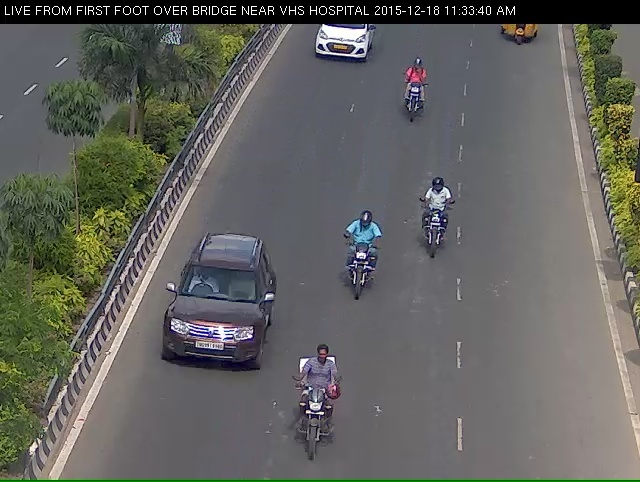Auto: (497, 26, 544, 49)
Car: (151, 263, 267, 415), (303, 23, 371, 73)
Person: (278, 376, 342, 481), (412, 180, 463, 278), (337, 233, 382, 327), (397, 63, 435, 140)
